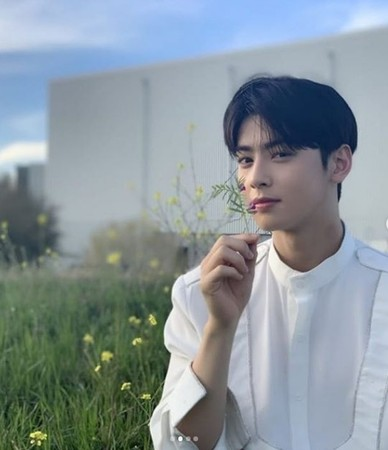people: (216, 76, 388, 450)
